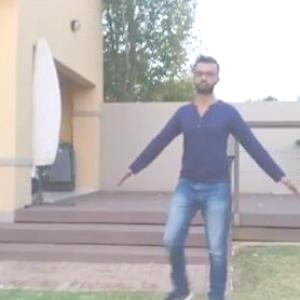land: (118, 59, 300, 299)
